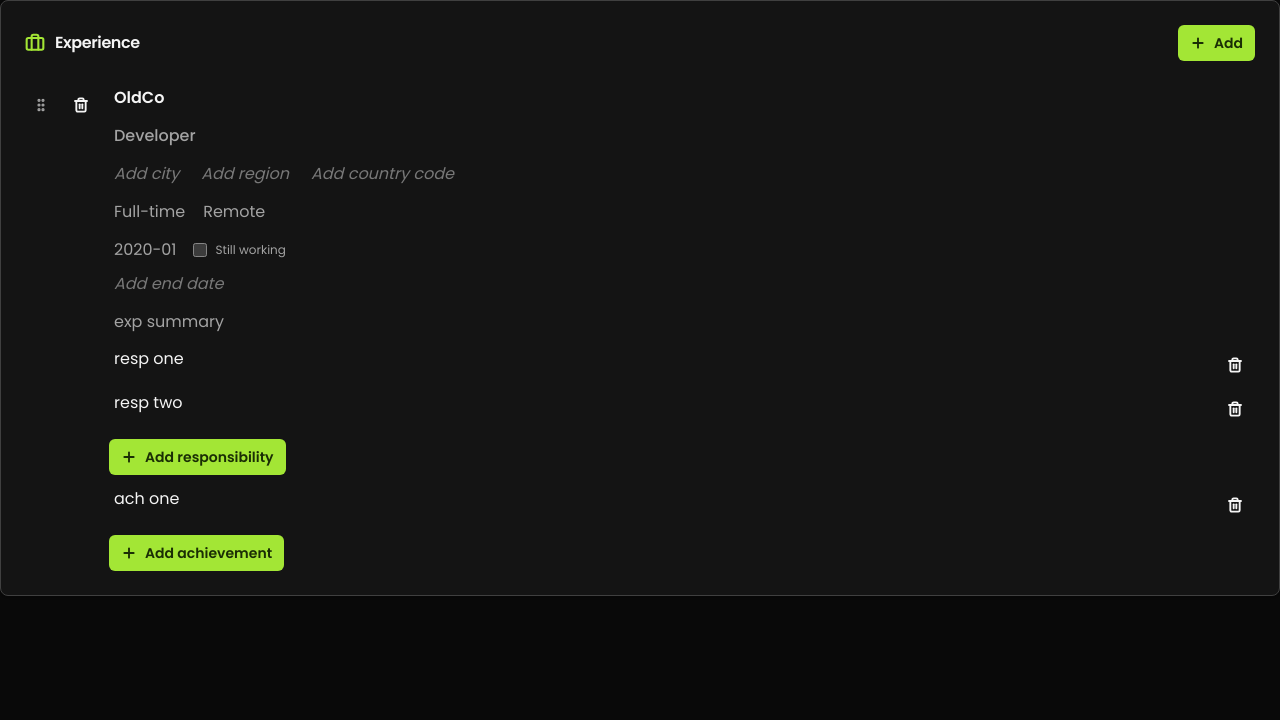
Test: profile editing - immutable saves › ExperienceSection nested string array responsibilities by index and immutable
Double-click the button with aria-label "Edit Responsibility" at (149, 358), box [109, 346, 189, 371]
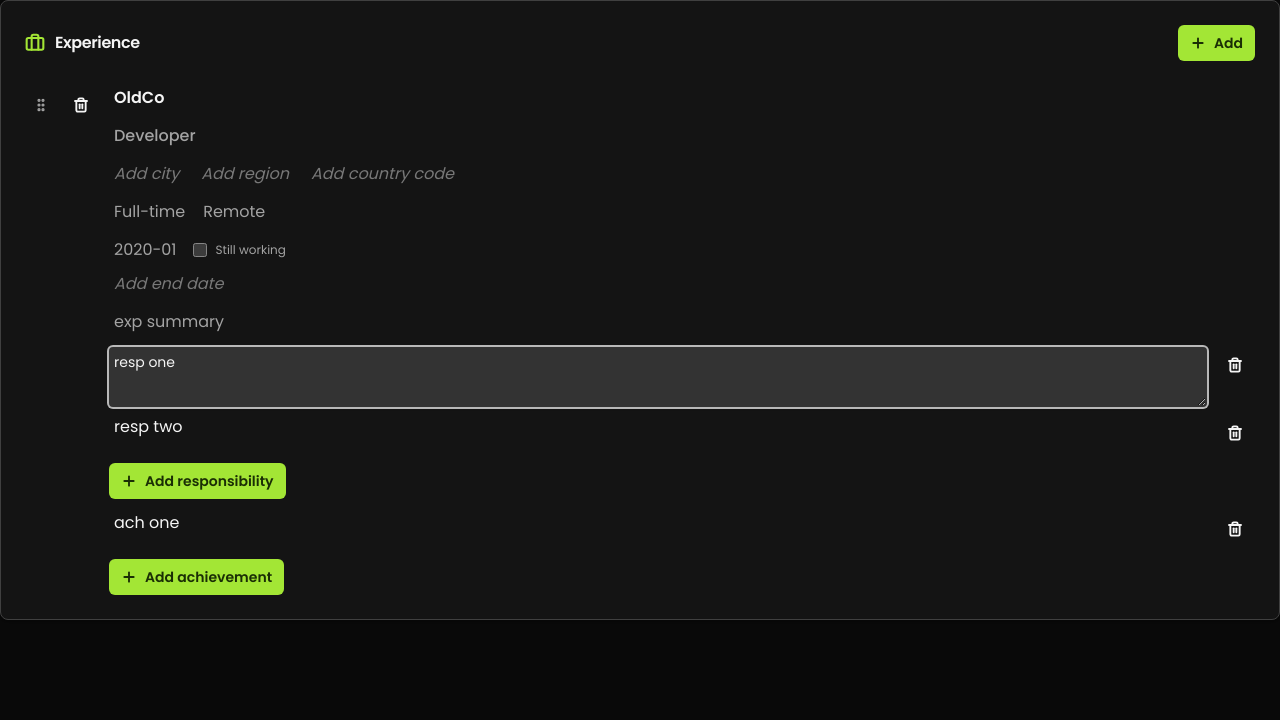
Replace the text in the text box named "Responsibility" with "updated resp" at (658, 377), box [109, 347, 1207, 407]
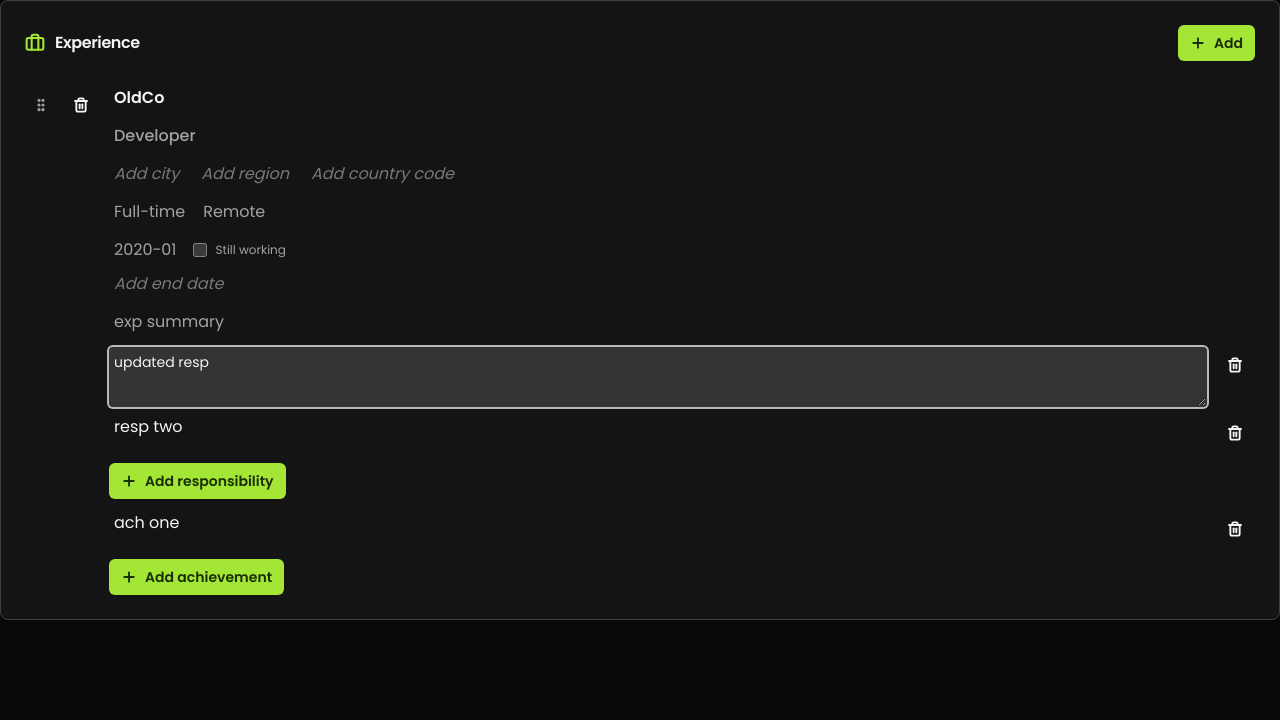
# textarea Enter without shift submits
Press Enter in the text box named "Responsibility", box [109, 347, 1207, 407]
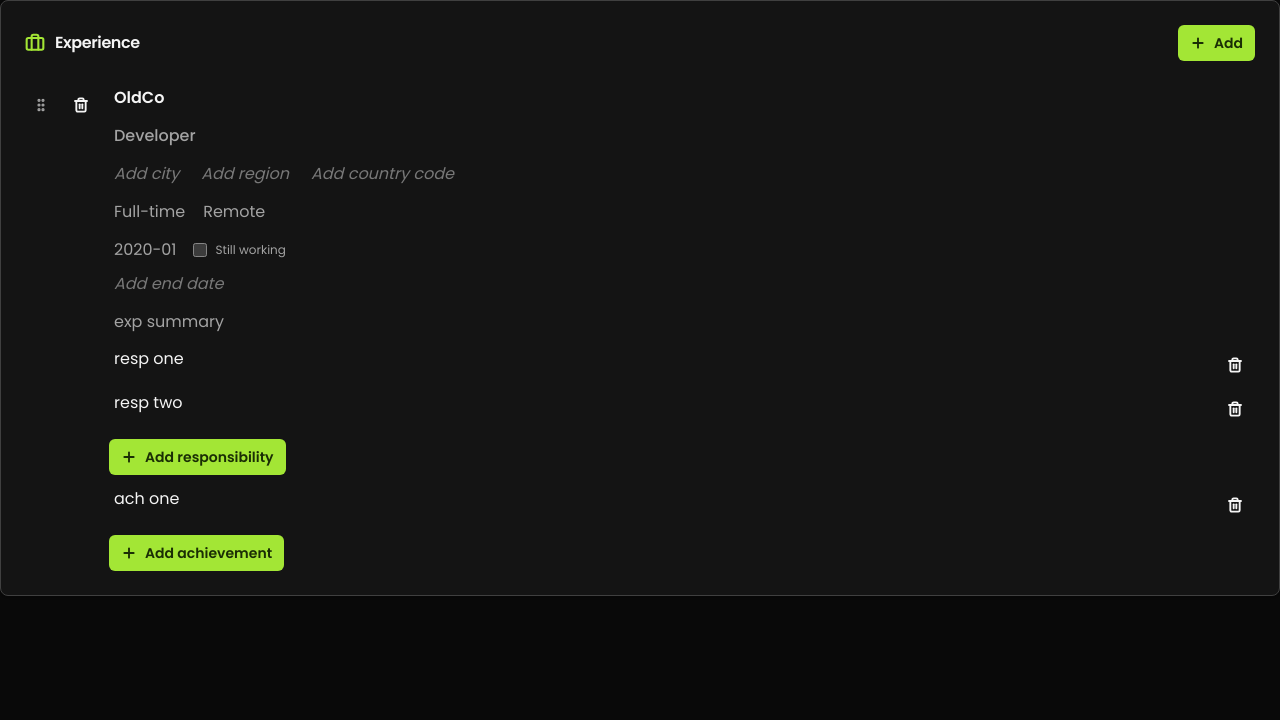
Expected: the button with aria-label "Edit Responsibility" reads "resp two", [109, 390, 188, 415]
Expected: the button "resp one" is shown, [109, 346, 189, 371]
